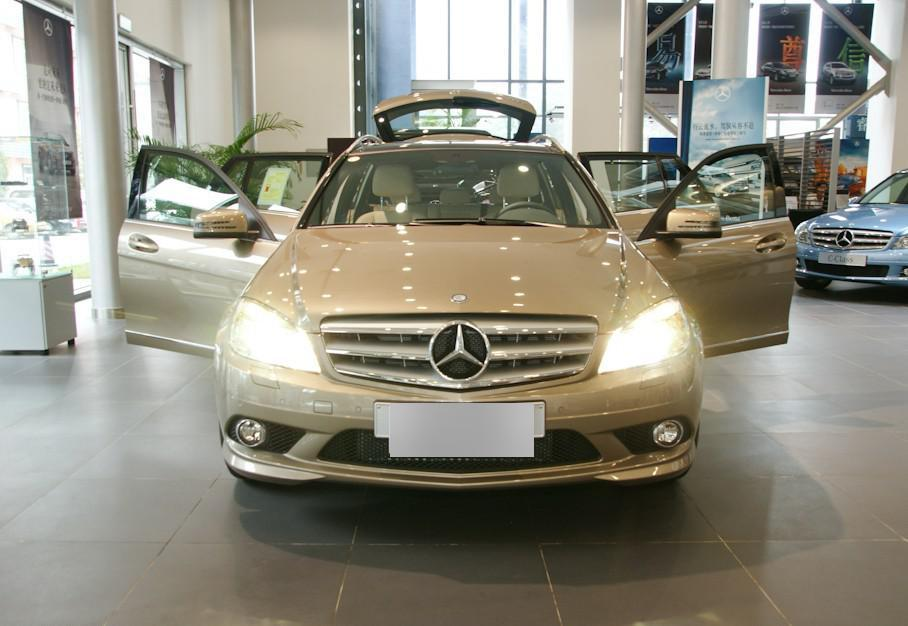Wagon: (117, 87, 799, 497)
